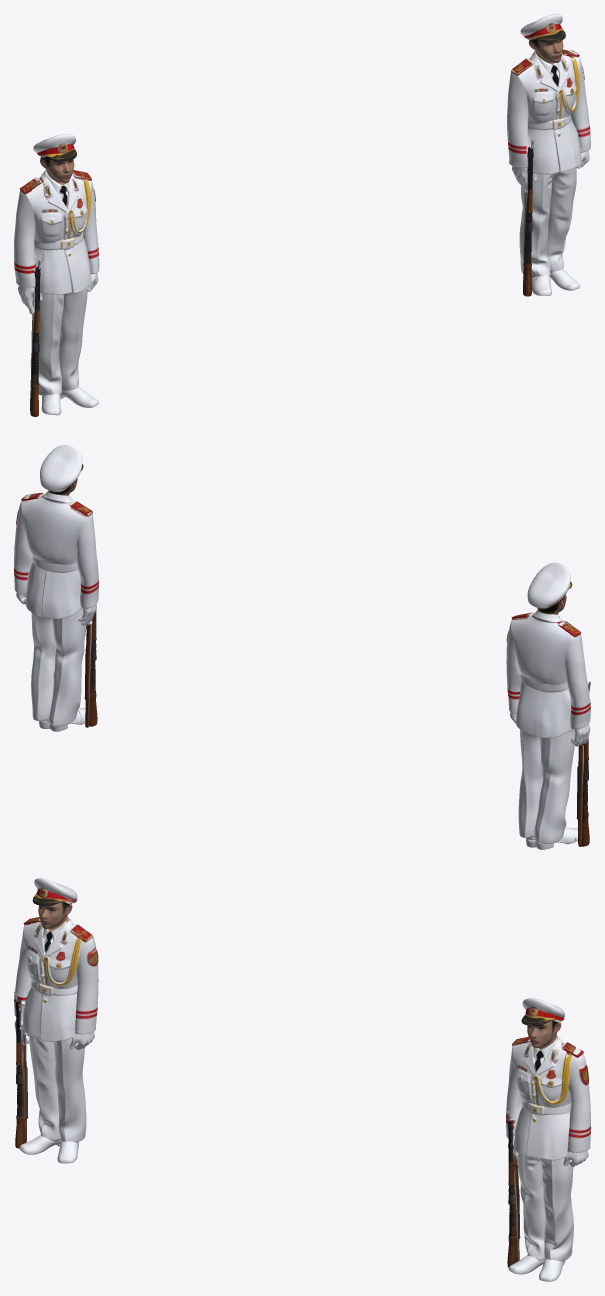
File: canh gác.glb
3 renders of one model, top to bottom at view 1: azimuth 30°, elevation 25°; view 2: azimuth 150°, elevation 25°; view 3: azimuth 330°, elevation 25°, orthographic.
Size of the model in its own units: 1.9 by 0.8727 by 0.1857.
Materials: 1 (1 with a texture image).
